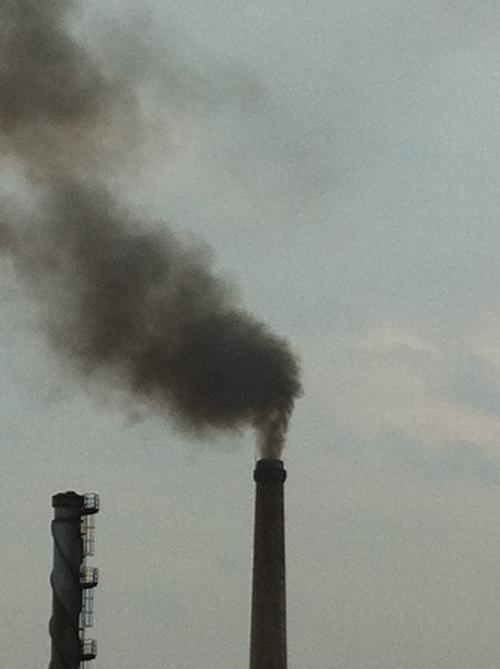smoke: (1, 180, 302, 457)
